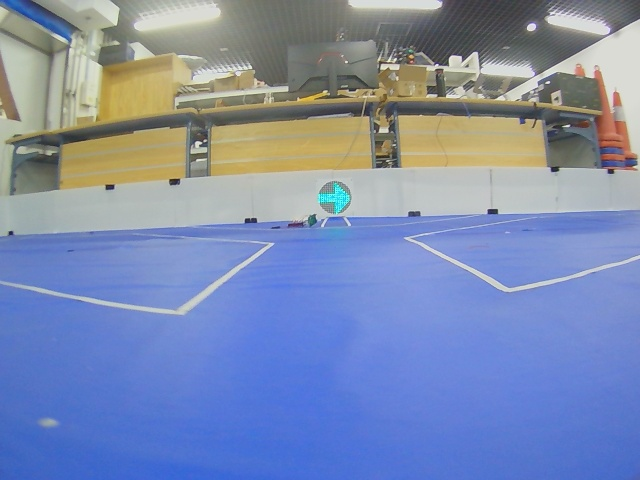right_green: (318, 181, 351, 214)
